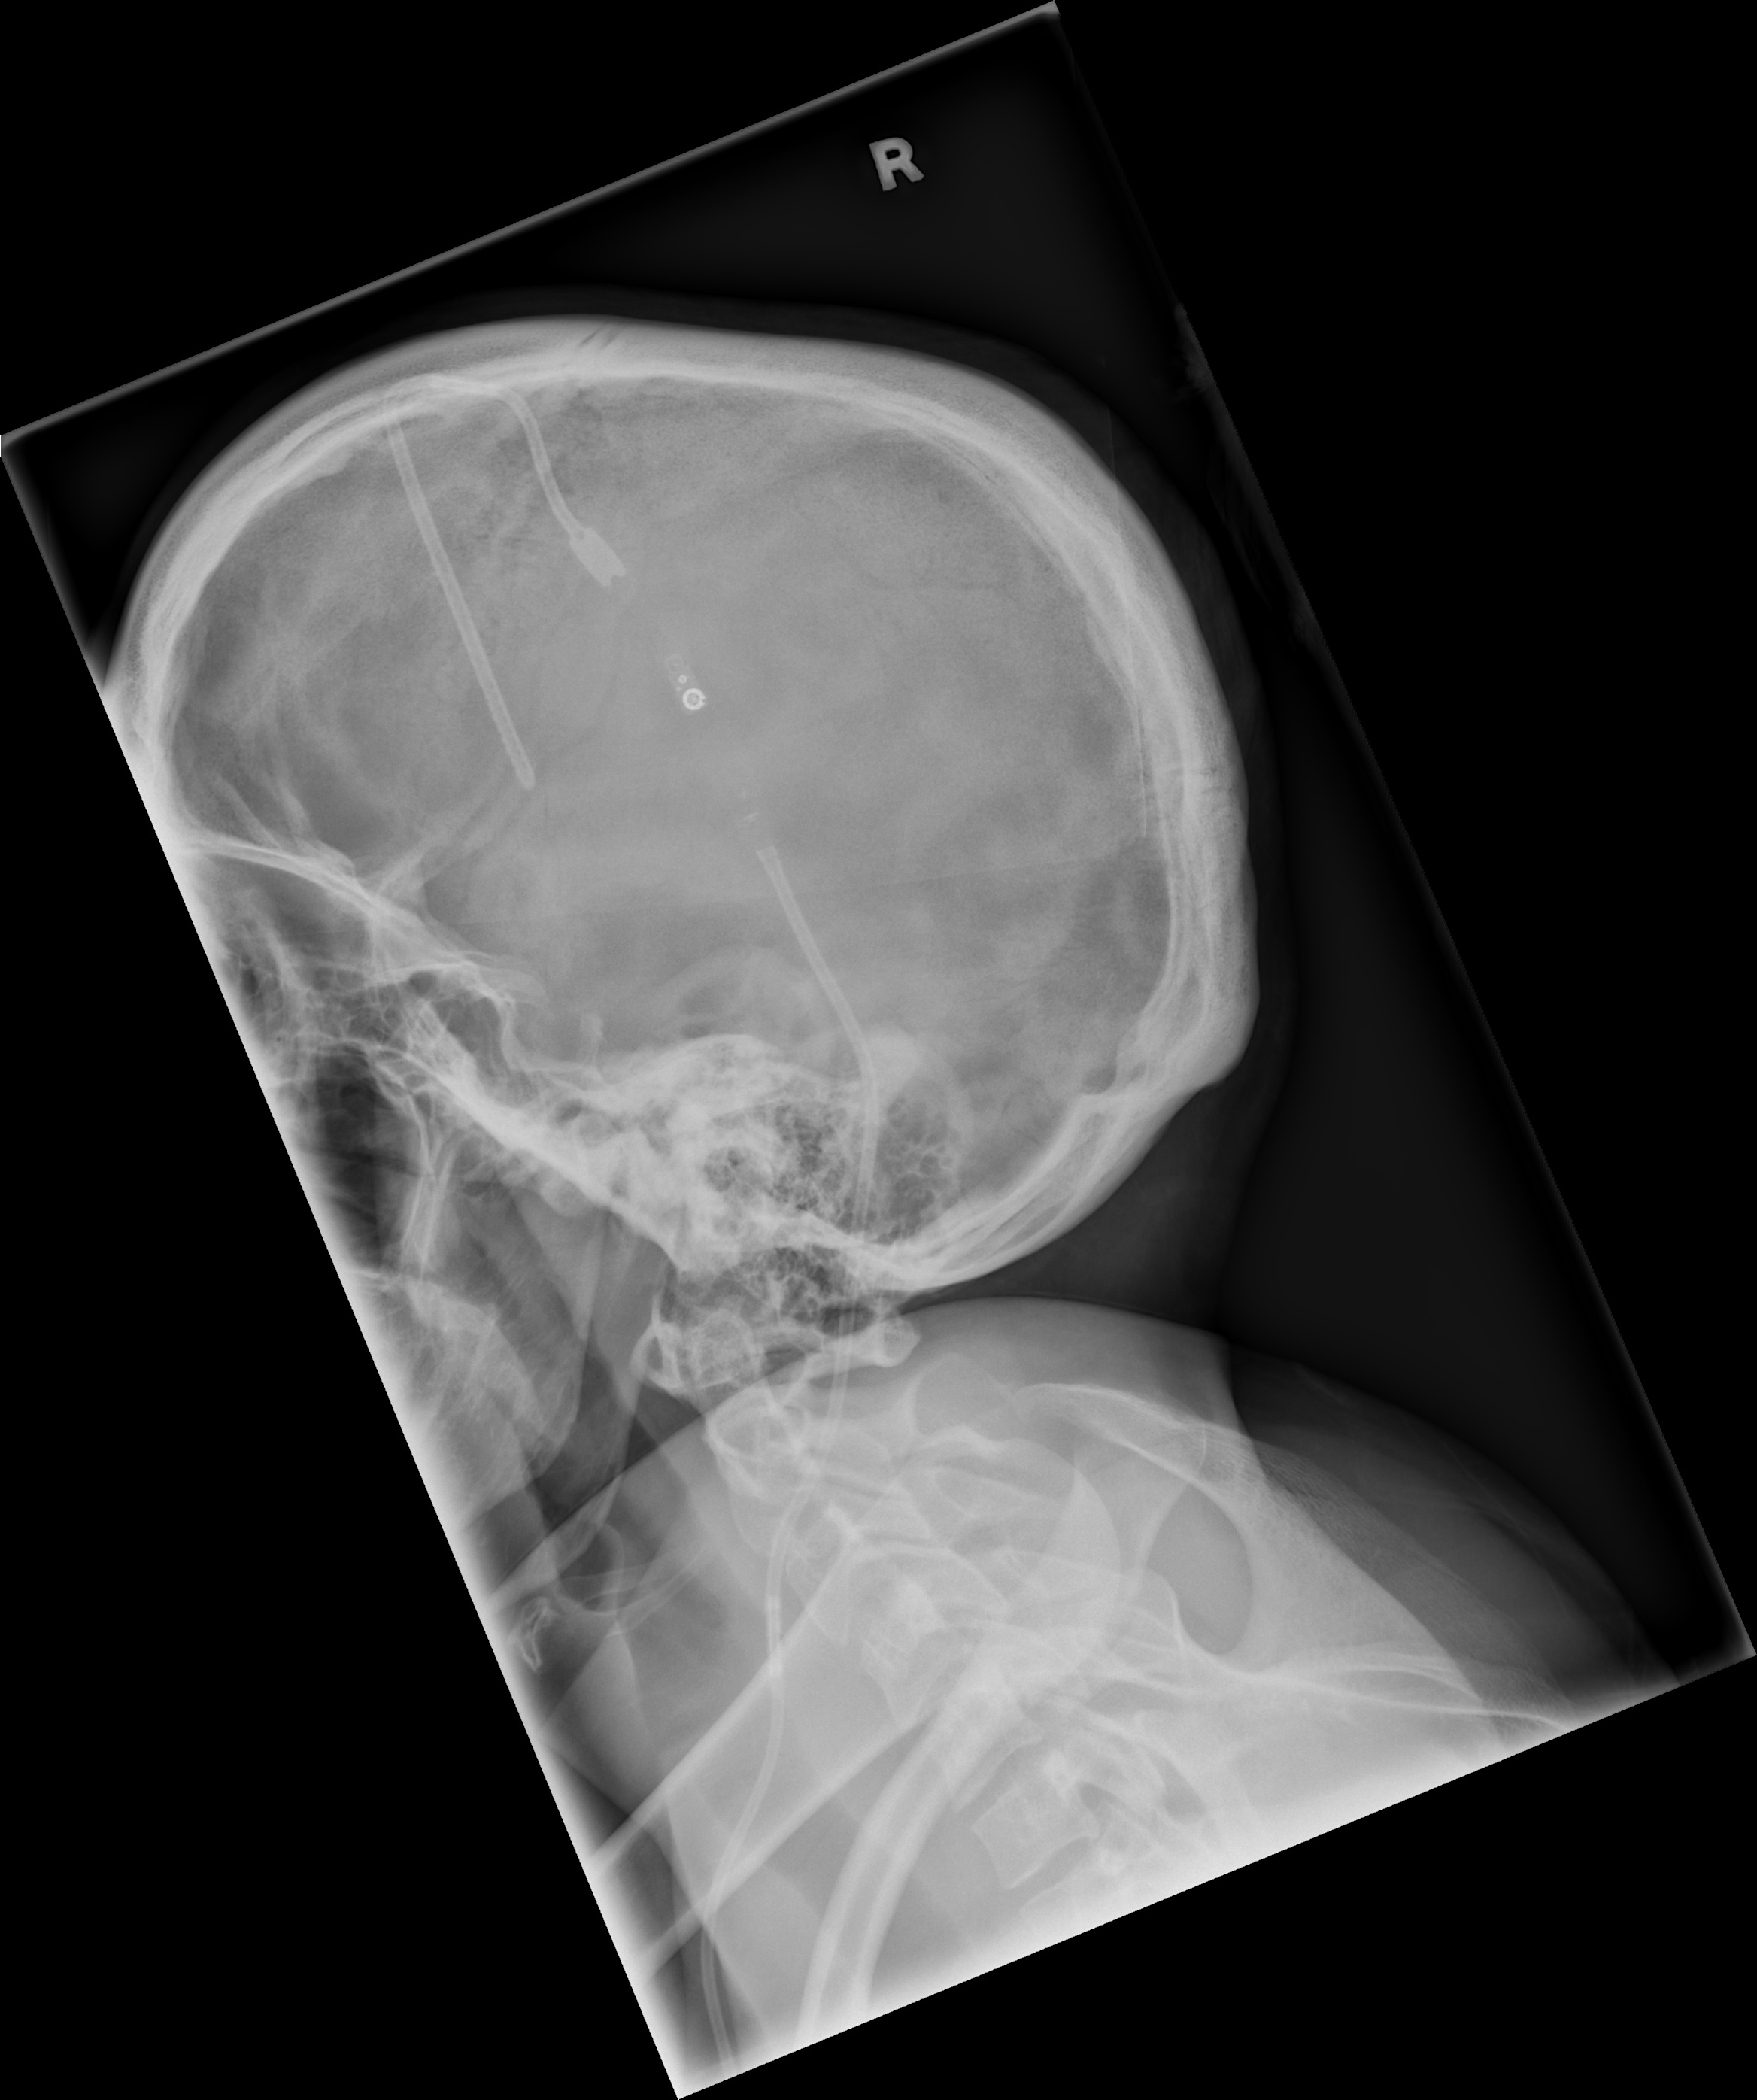Codman Hakim: (654, 651, 728, 733)
